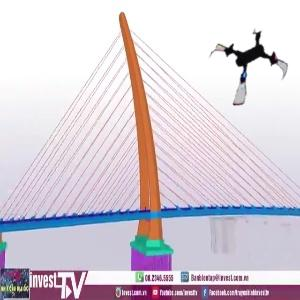drone: (208, 26, 291, 109)
